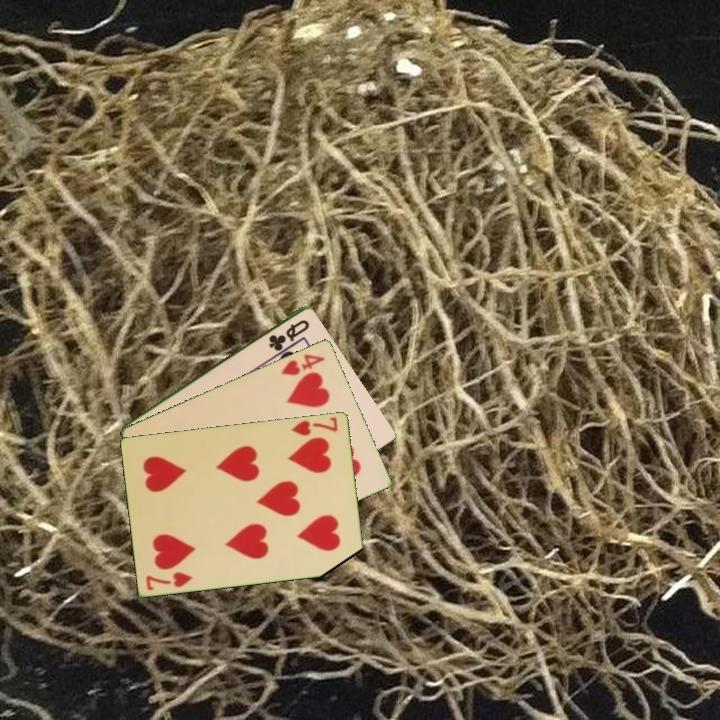4h: (277, 350, 328, 378)
7h: (288, 413, 341, 438), (143, 568, 196, 593)
Qc: (265, 316, 312, 354)
